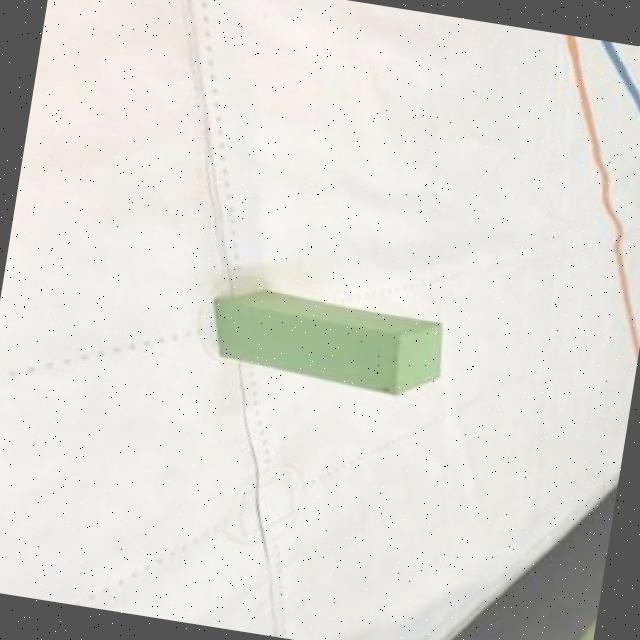greenbox: (202, 285, 452, 404)
